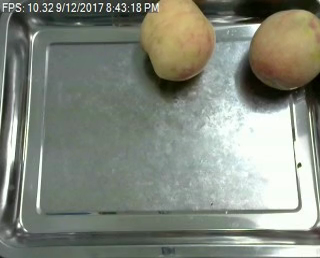Peach: (140, 0, 215, 81), (249, 8, 319, 91)
